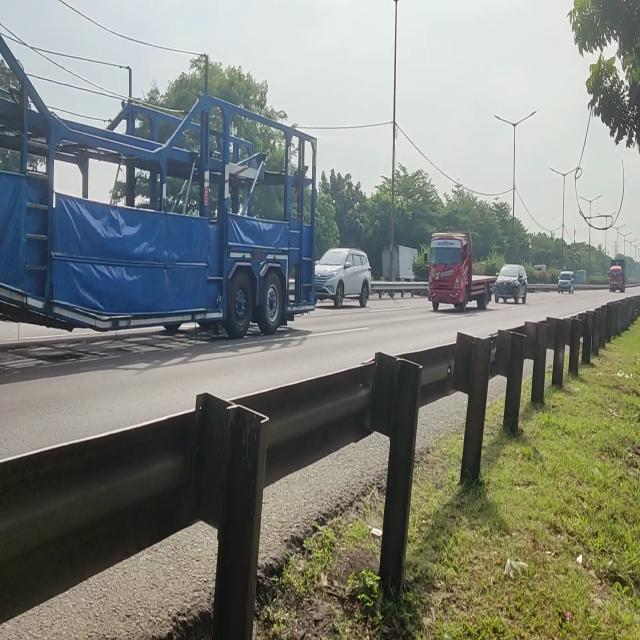Golongan I: (314, 242, 374, 312)
